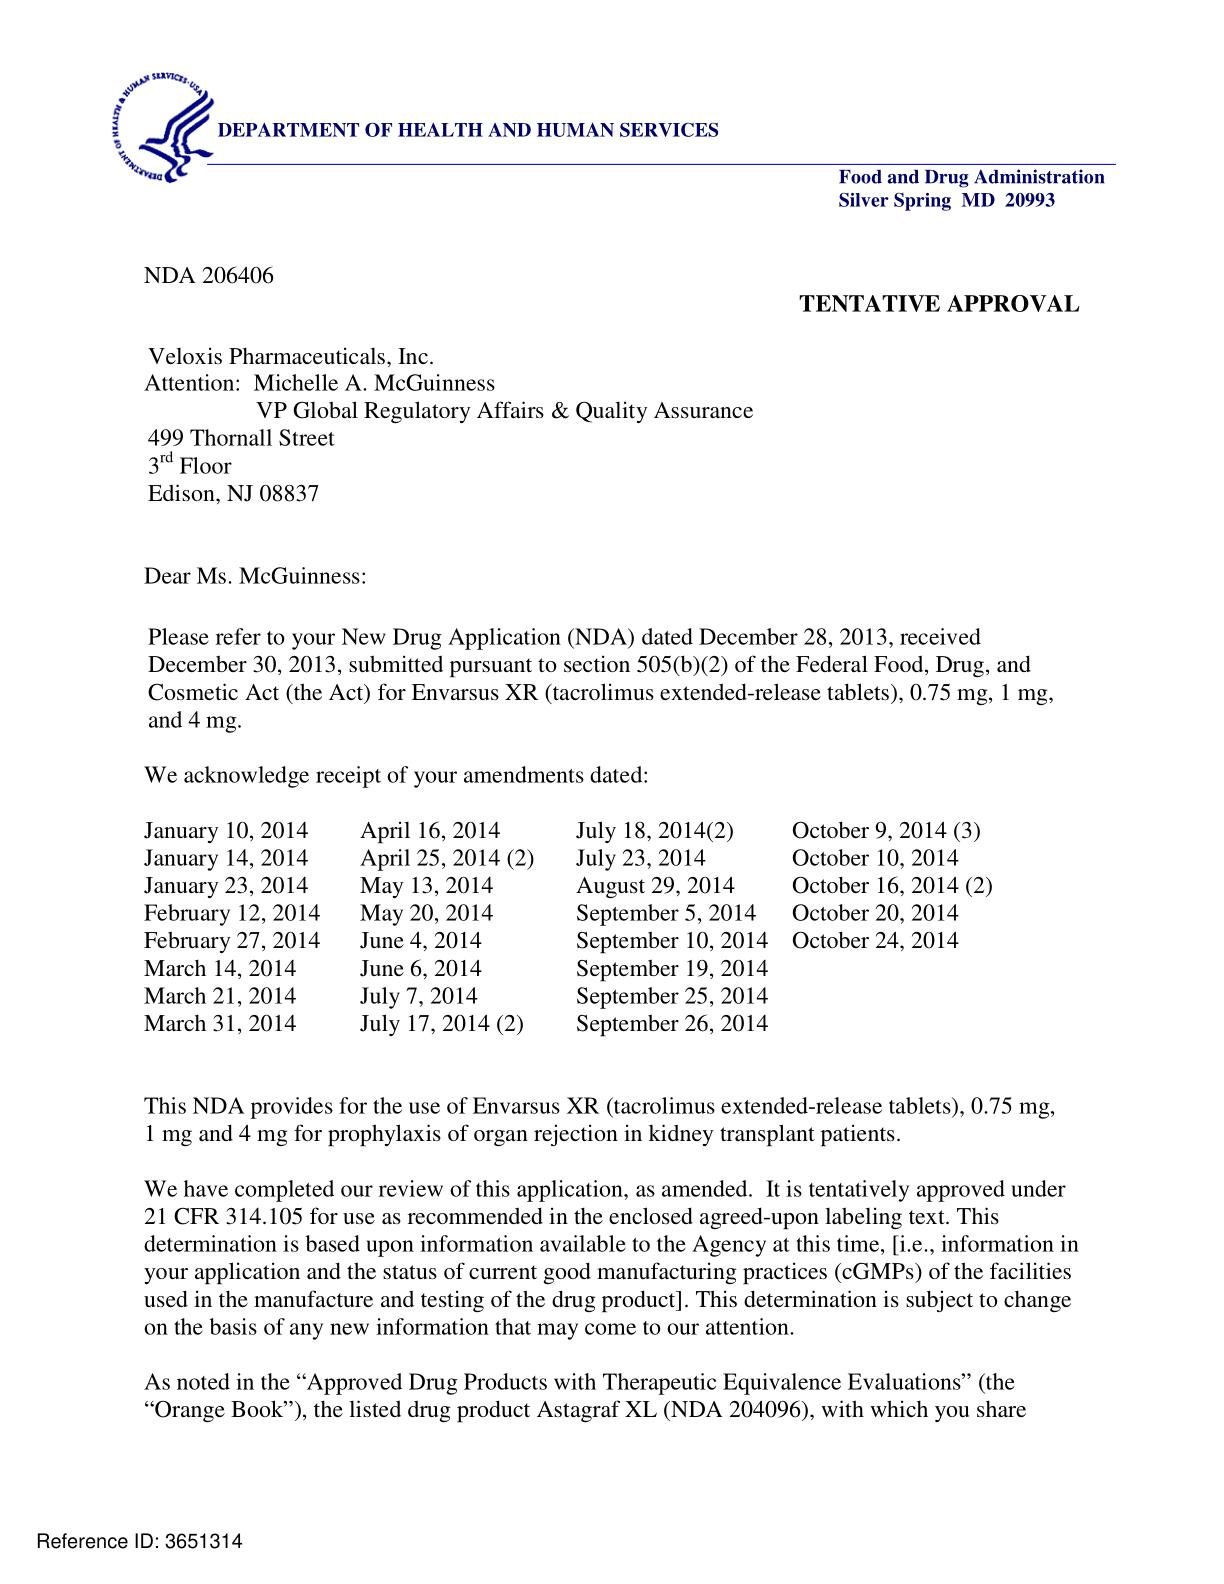nolines: (139, 818, 996, 1036)
